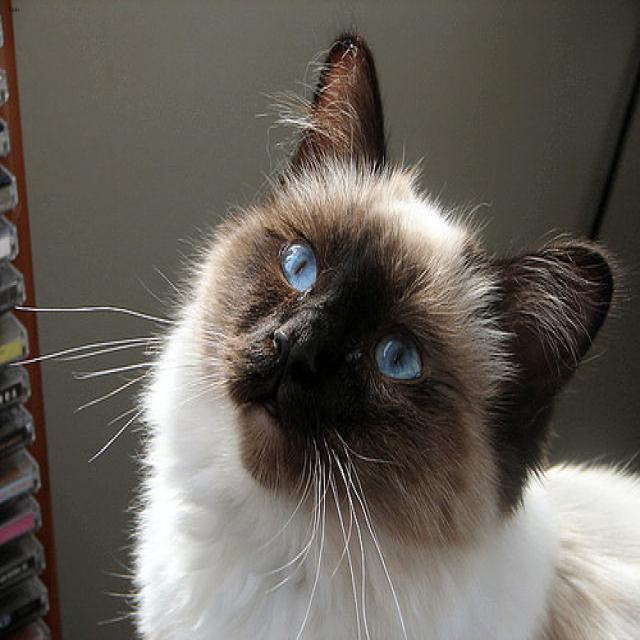Birman: (174, 31, 612, 563)
